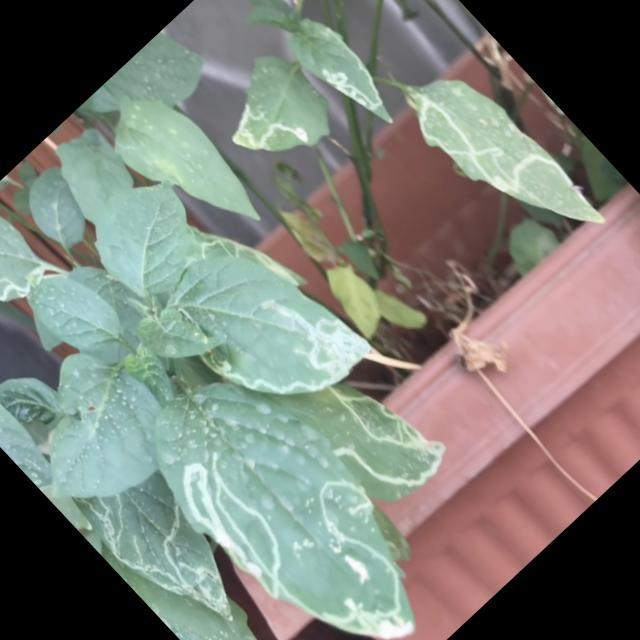Tomato healthy leaf: (76, 162, 226, 313)
Tomato target spot leaf: (117, 337, 467, 640), (146, 210, 377, 443), (388, 45, 612, 276), (69, 443, 272, 640), (276, 336, 460, 522), (199, 38, 348, 188), (278, 7, 408, 142), (177, 194, 307, 326), (0, 193, 58, 335)
